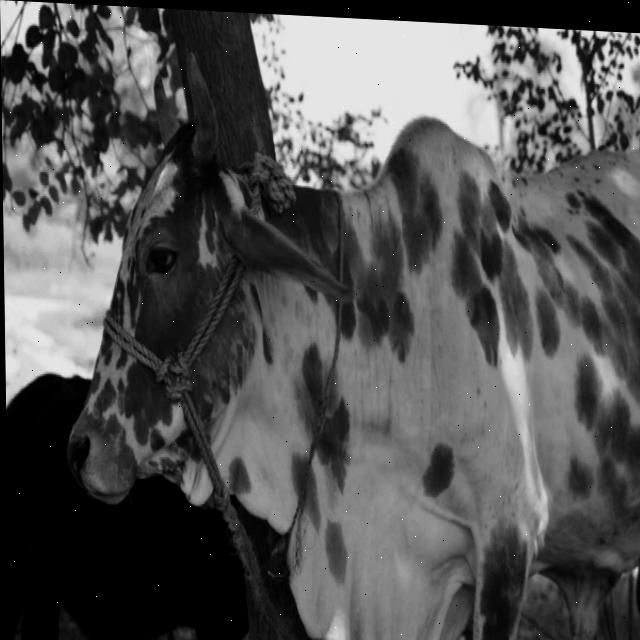Cow: (60, 43, 640, 640)
